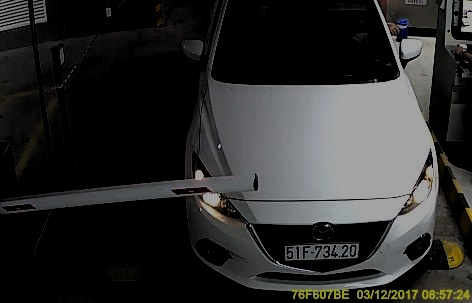plate: (283, 239, 359, 261)
